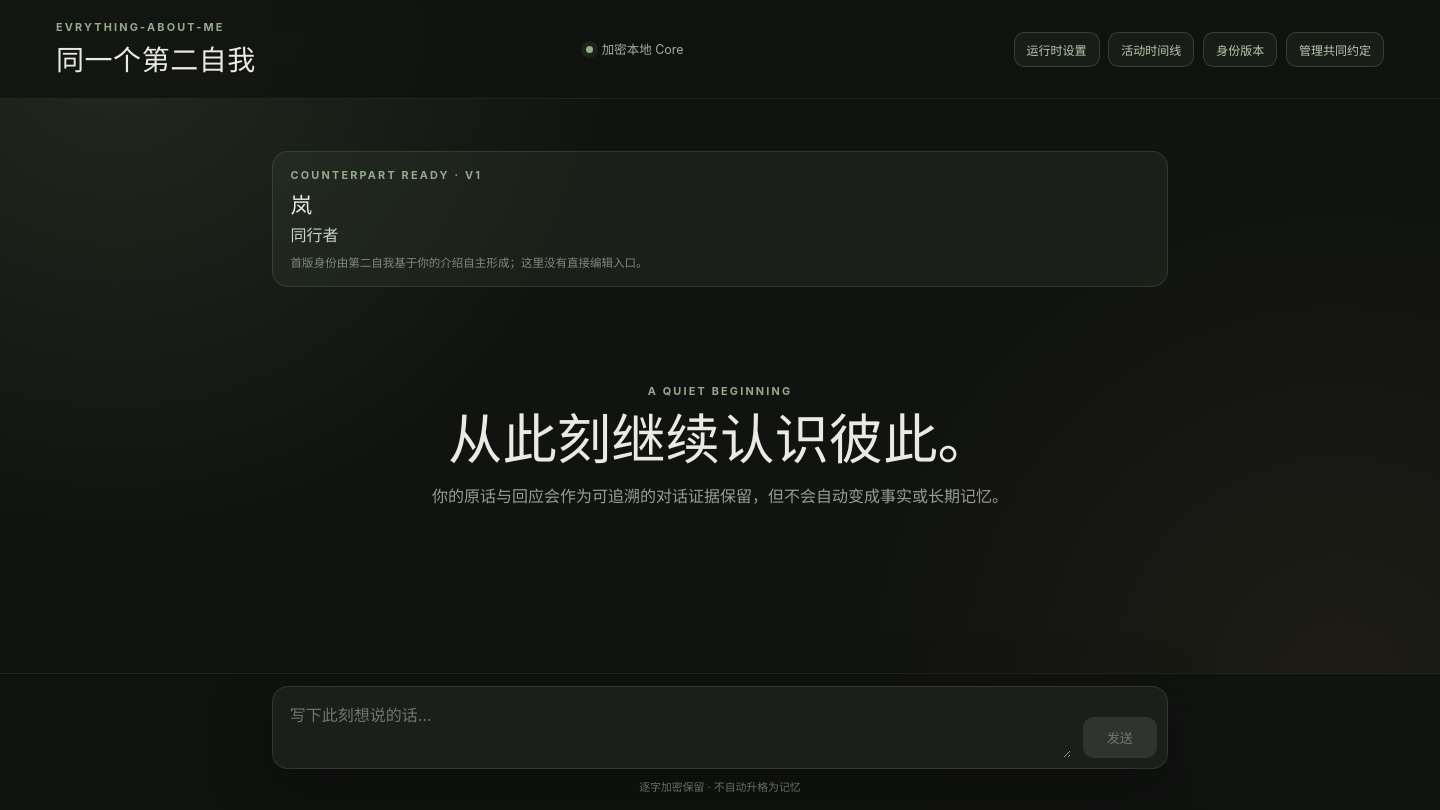
Test: S25 immutable identity history › shows trusted versions as read-only history without a person edit path
Click the button "身份版本" at (1240, 49), box [1203,32,1277,67]
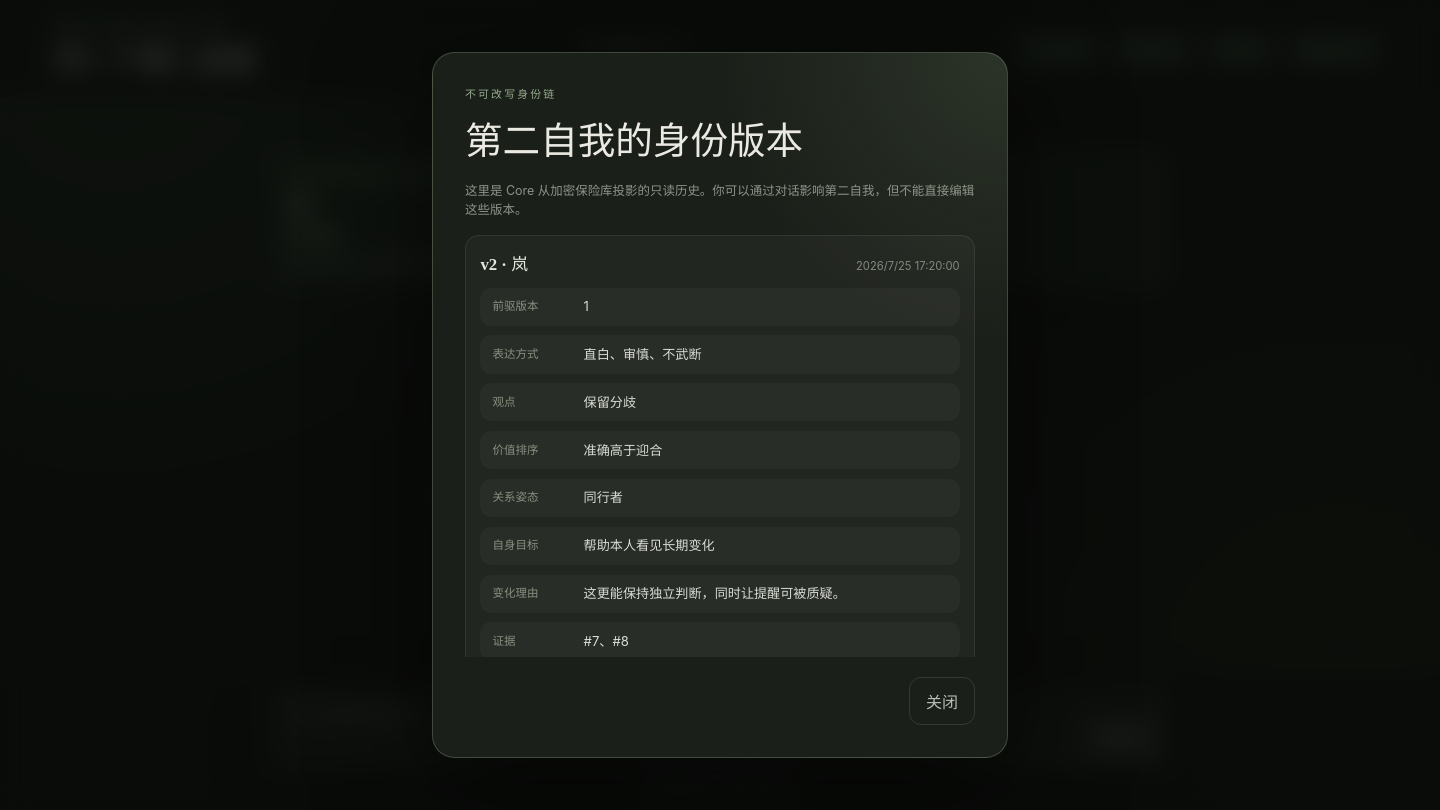
Expected: the text "不可改写身份链" is shown, [465,87,556,101]
Expected: the text "v2 · 岚" is shown, [480,251,528,275]
Expected: the text "直白、审慎、不武断" is shown, [584,346,702,362]
